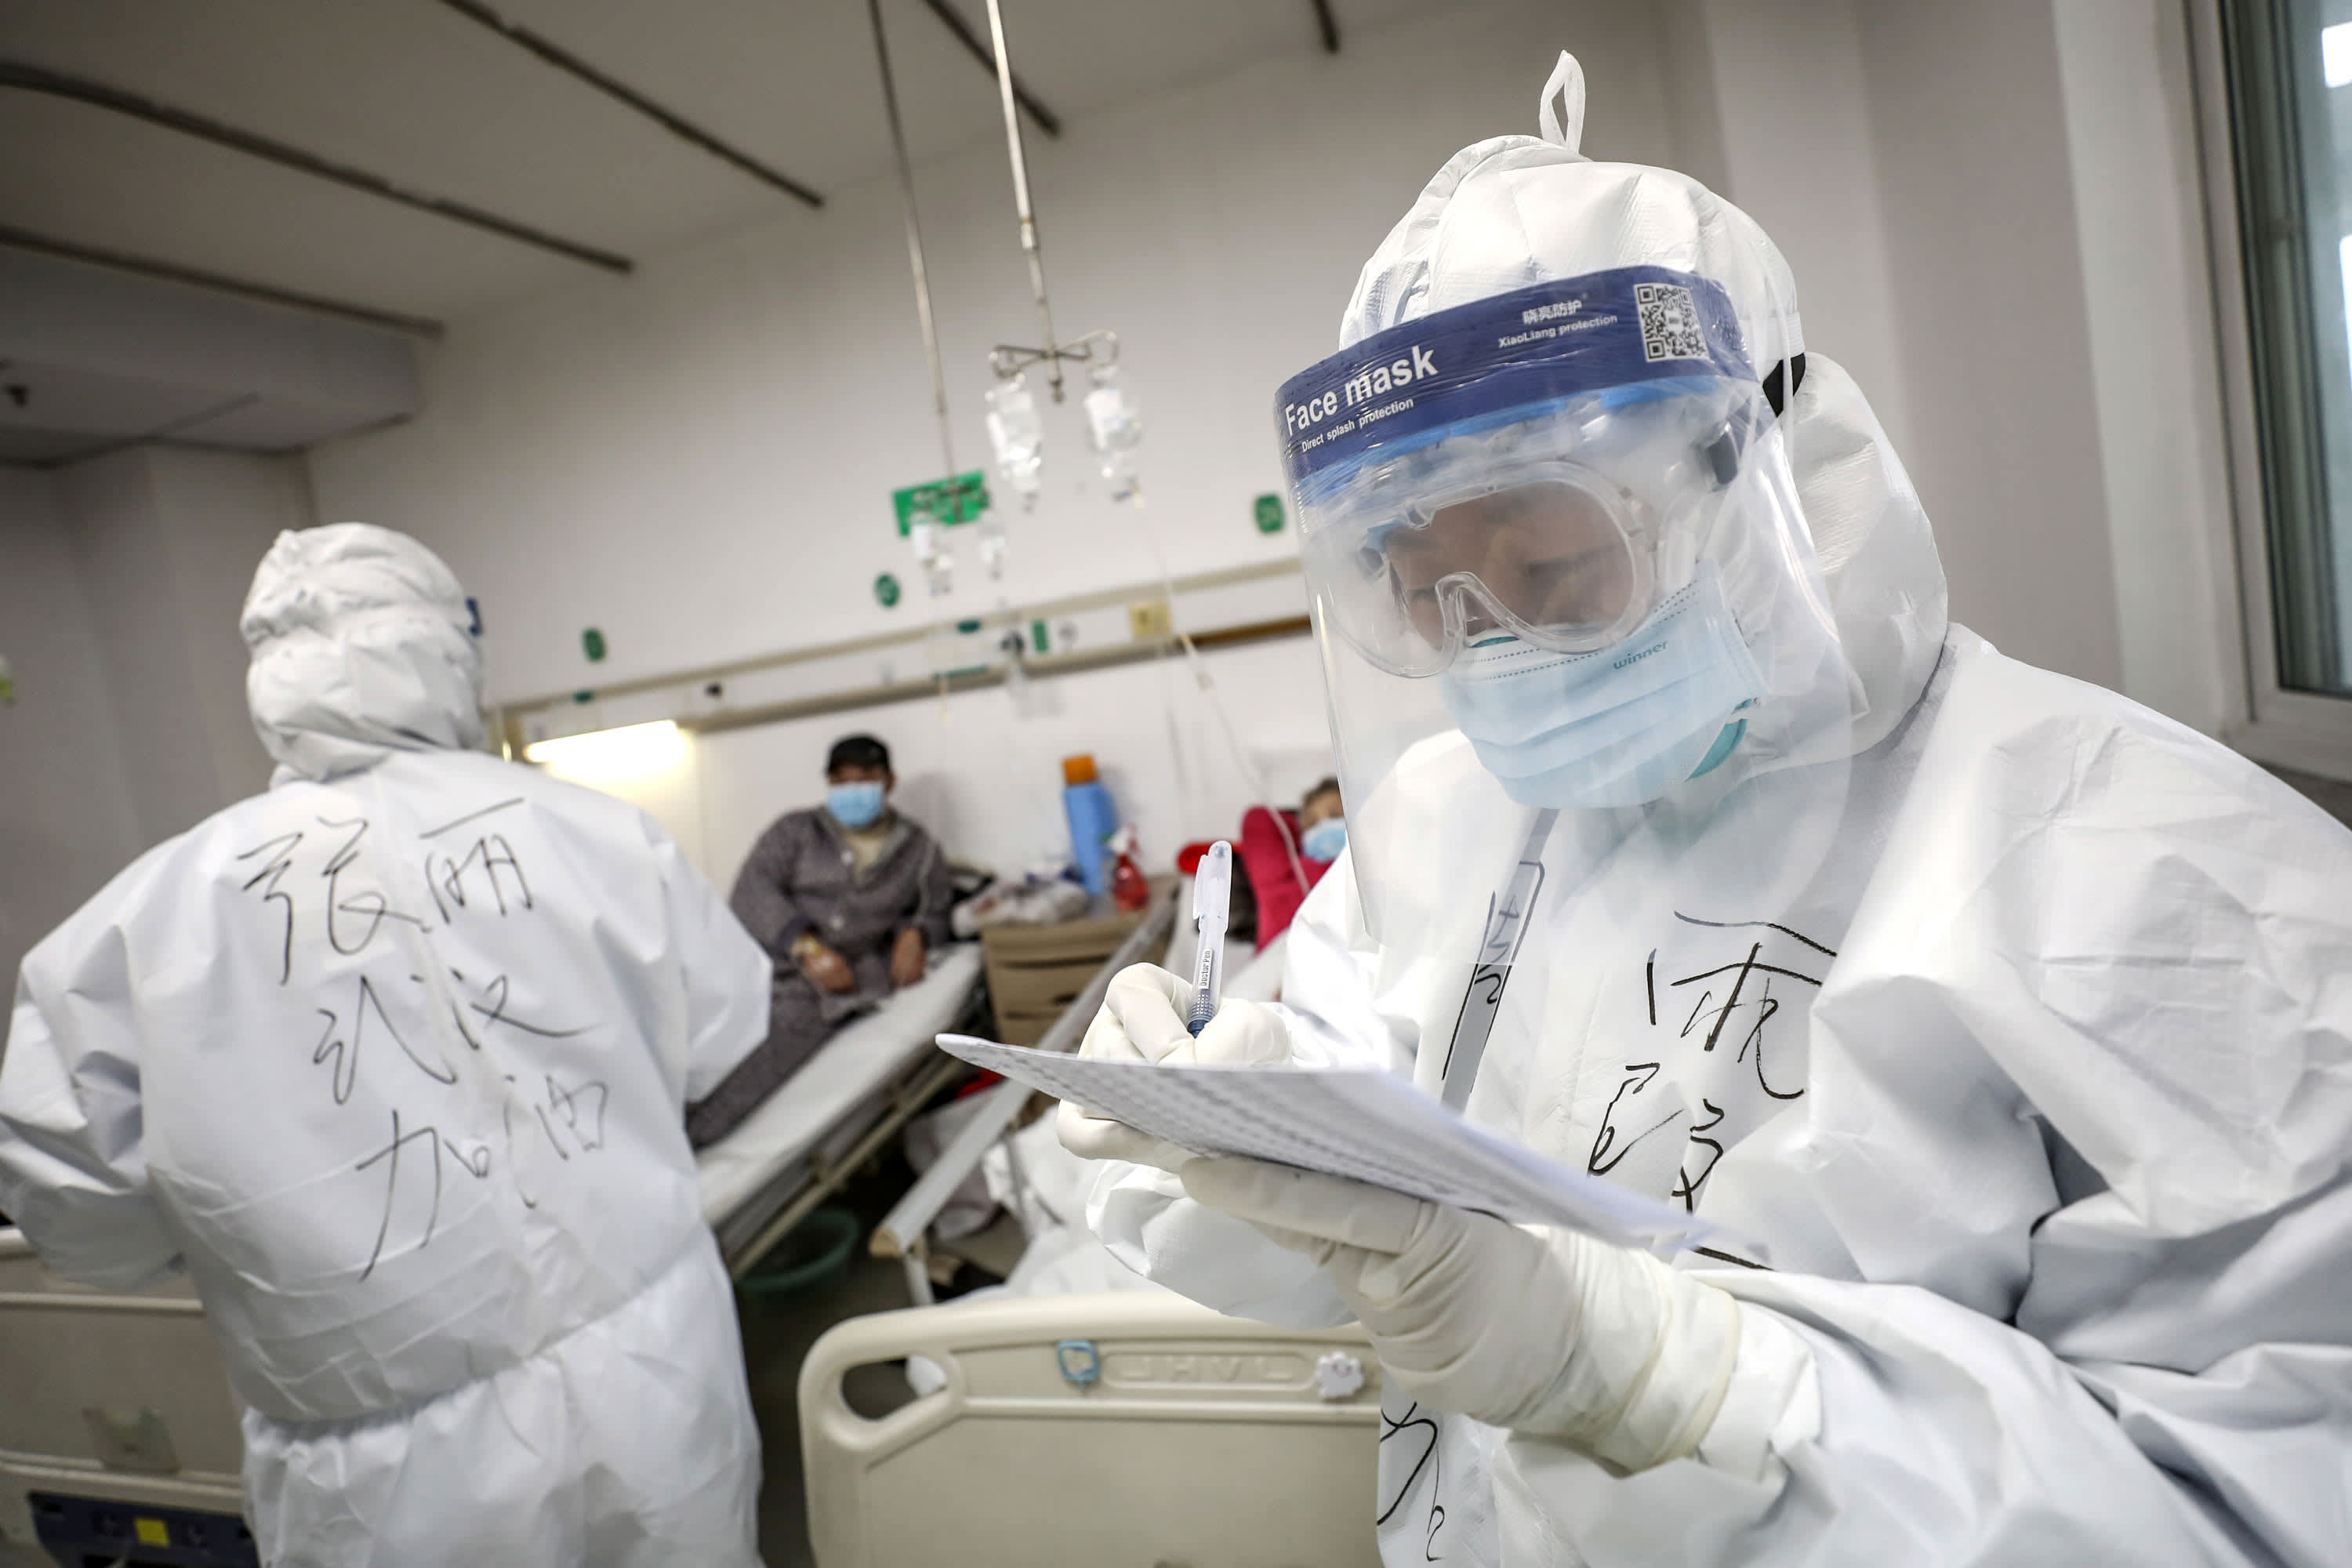Coverall: (1279, 145, 2309, 1568), (9, 526, 782, 1568)
Gloves: (1181, 1146, 1752, 1467)
Goggles: (1295, 425, 1730, 685)
with_mask: (1357, 467, 1745, 837)
